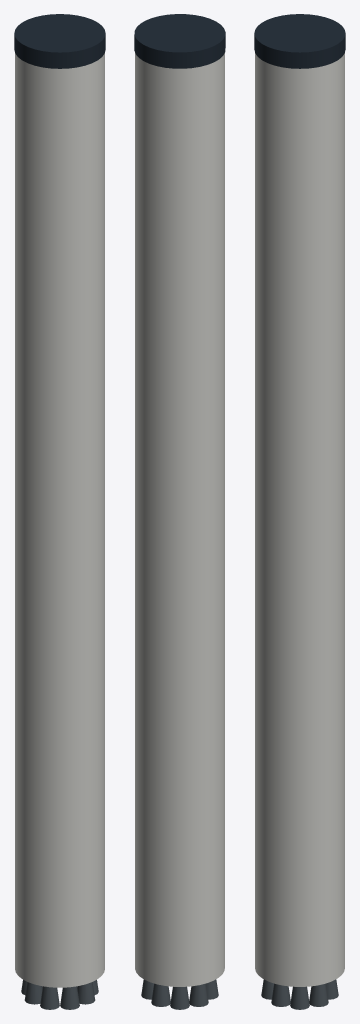
The model's file is falconheavy-stage-1.glb.
3 views of the same model, side by side, from view 1: azimuth 90°, elevation 25°; view 2: azimuth 150°, elevation 25°; view 3: azimuth 270°, elevation 25° (orthographic).
Parts seen in each view (by area): view 1: body-0, interstage-0, engine-0-4, engine-0-5, engine-0-3, engine-0-6; view 2: body-0, interstage-0, engine-0-6, engine-0-5, engine-0-7; view 3: body-0, interstage-0, engine-0-0, engine-0-1, engine-0-8.
Part boxes in pixels (<box>): body-0: <box>15,53,104,987</box>; interstage-0: <box>14,14,105,68</box>; engine-0-4: <box>60,986,79,1009</box>; engine-0-5: <box>40,986,59,1009</box>; engine-0-3: <box>77,982,95,1004</box>; engine-0-6: <box>24,982,42,1004</box>; body-0: <box>135,53,224,986</box>; interstage-0: <box>134,14,225,68</box>; engine-0-6: <box>170,986,189,1009</box>; engine-0-5: <box>189,983,208,1006</box>; engine-0-7: <box>151,983,170,1006</box>; body-0: <box>255,53,344,986</box>; interstage-0: <box>254,14,345,68</box>; engine-0-0: <box>290,986,309,1009</box>; engine-0-1: <box>271,983,290,1006</box>; engine-0-8: <box>309,983,328,1006</box>.
Bounding box in the file's own units: 3.74 × 43.49 × 3.74.
